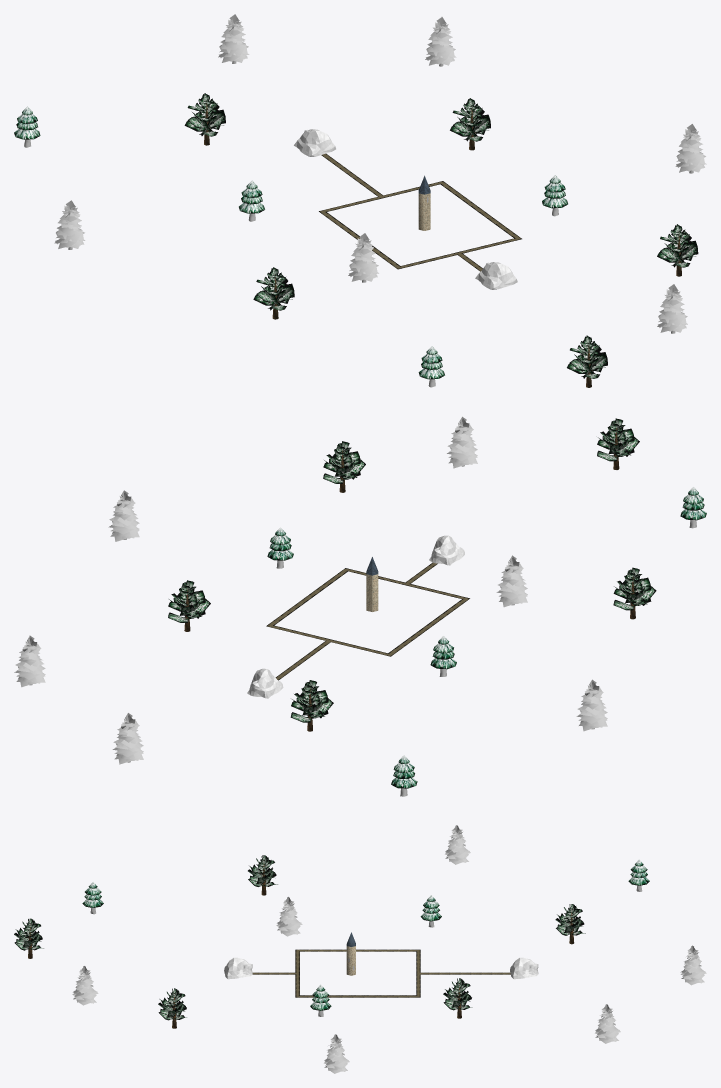
File: terrain_lo12.obj
The picture shows the model from 3 angles, top to bottom: view 1: azimuth 30°, elevation 25°; view 2: azimuth 150°, elevation 25°; view 3: azimuth 270°, elevation 25°; orthographic projection. The views are drawn at different scales.
Parts seen in each view (by area): view 1: Plane, tree_snow4, tree_snow4.003, tree_snow4.001, tree_snow4.002, tree_snow4.004, treeleaves5.003, treeleaves5, treeleaves5.005, treeleaves5.004, treeleaves5.002, treeleaves5.001 (+7 smaller); view 2: Plane, tree_snow4.004, tree_snow4.001, tree_snow4.003, tree_snow4.002, tree_snow4, treeleaves5.002, treeleaves5.004, treeleaves5.003, treeleaves5.001, treeleaves5.005, treeleaves5 (+7 smaller); view 3: Plane, tree_snow4.003, tree_snow4.002, tree_snow4, tree_snow4.004, tree_snow4.001, treeleaves5, treeleaves5.004, treeleaves5.001, treeleaves5.005, treeleaves5.002, treeleaves5.003 (+5 smaller).
Part boxes in pixels (x1=…): Plane: x1=319, y1=153, x2=521, y2=271; tree_snow4: x1=450, y1=98, x2=490, y2=150; tree_snow4.003: x1=184, y1=93, x2=225, y2=145; tree_snow4.001: x1=253, y1=267, x2=294, y2=319; tree_snow4.002: x1=657, y1=224, x2=698, y2=276; tree_snow4.004: x1=567, y1=335, x2=607, y2=387; treeleaves5.003: x1=675, y1=124, x2=706, y2=173; treeleaves5: x1=348, y1=233, x2=378, y2=282; treeleaves5.005: x1=218, y1=14, x2=249, y2=63; treeleaves5.004: x1=657, y1=284, x2=687, y2=333; treeleaves5.002: x1=425, y1=17, x2=456, y2=66; treeleaves5.001: x1=54, y1=200, x2=85, y2=249; Plane: x1=266, y1=562, x2=469, y2=680; tree_snow4.004: x1=597, y1=418, x2=639, y2=469; tree_snow4.001: x1=613, y1=567, x2=656, y2=619; tree_snow4.003: x1=290, y1=680, x2=333, y2=731; tree_snow4.002: x1=323, y1=441, x2=365, y2=492; tree_snow4: x1=168, y1=580, x2=210, y2=631; treeleaves5.002: x1=14, y1=635, x2=45, y2=687; treeleaves5.004: x1=447, y1=416, x2=477, y2=468; treeleaves5.003: x1=108, y1=490, x2=139, y2=541; treeleaves5.001: x1=576, y1=679, x2=607, y2=731; treeleaves5.005: x1=112, y1=713, x2=143, y2=764; treeleaves5: x1=496, y1=555, x2=527, y2=607; Plane: x1=252, y1=949, x2=510, y2=997; tree_snow4.003: x1=555, y1=904, x2=585, y2=944; tree_snow4.002: x1=158, y1=988, x2=186, y2=1028; tree_snow4: x1=443, y1=978, x2=472, y2=1018; tree_snow4.004: x1=14, y1=918, x2=43, y2=958; tree_snow4.001: x1=248, y1=855, x2=277, y2=895; treeleaves5: x1=276, y1=897, x2=302, y2=936; treeleaves5.004: x1=72, y1=966, x2=98, y2=1005; treeleaves5.001: x1=445, y1=825, x2=470, y2=864; treeleaves5.005: x1=680, y1=945, x2=706, y2=985; treeleaves5.002: x1=595, y1=1004, x2=620, y2=1043; treeleaves5.003: x1=324, y1=1034, x2=349, y2=1073.
Bounding box in the file's own units: 101 × 8.9 × 134.
